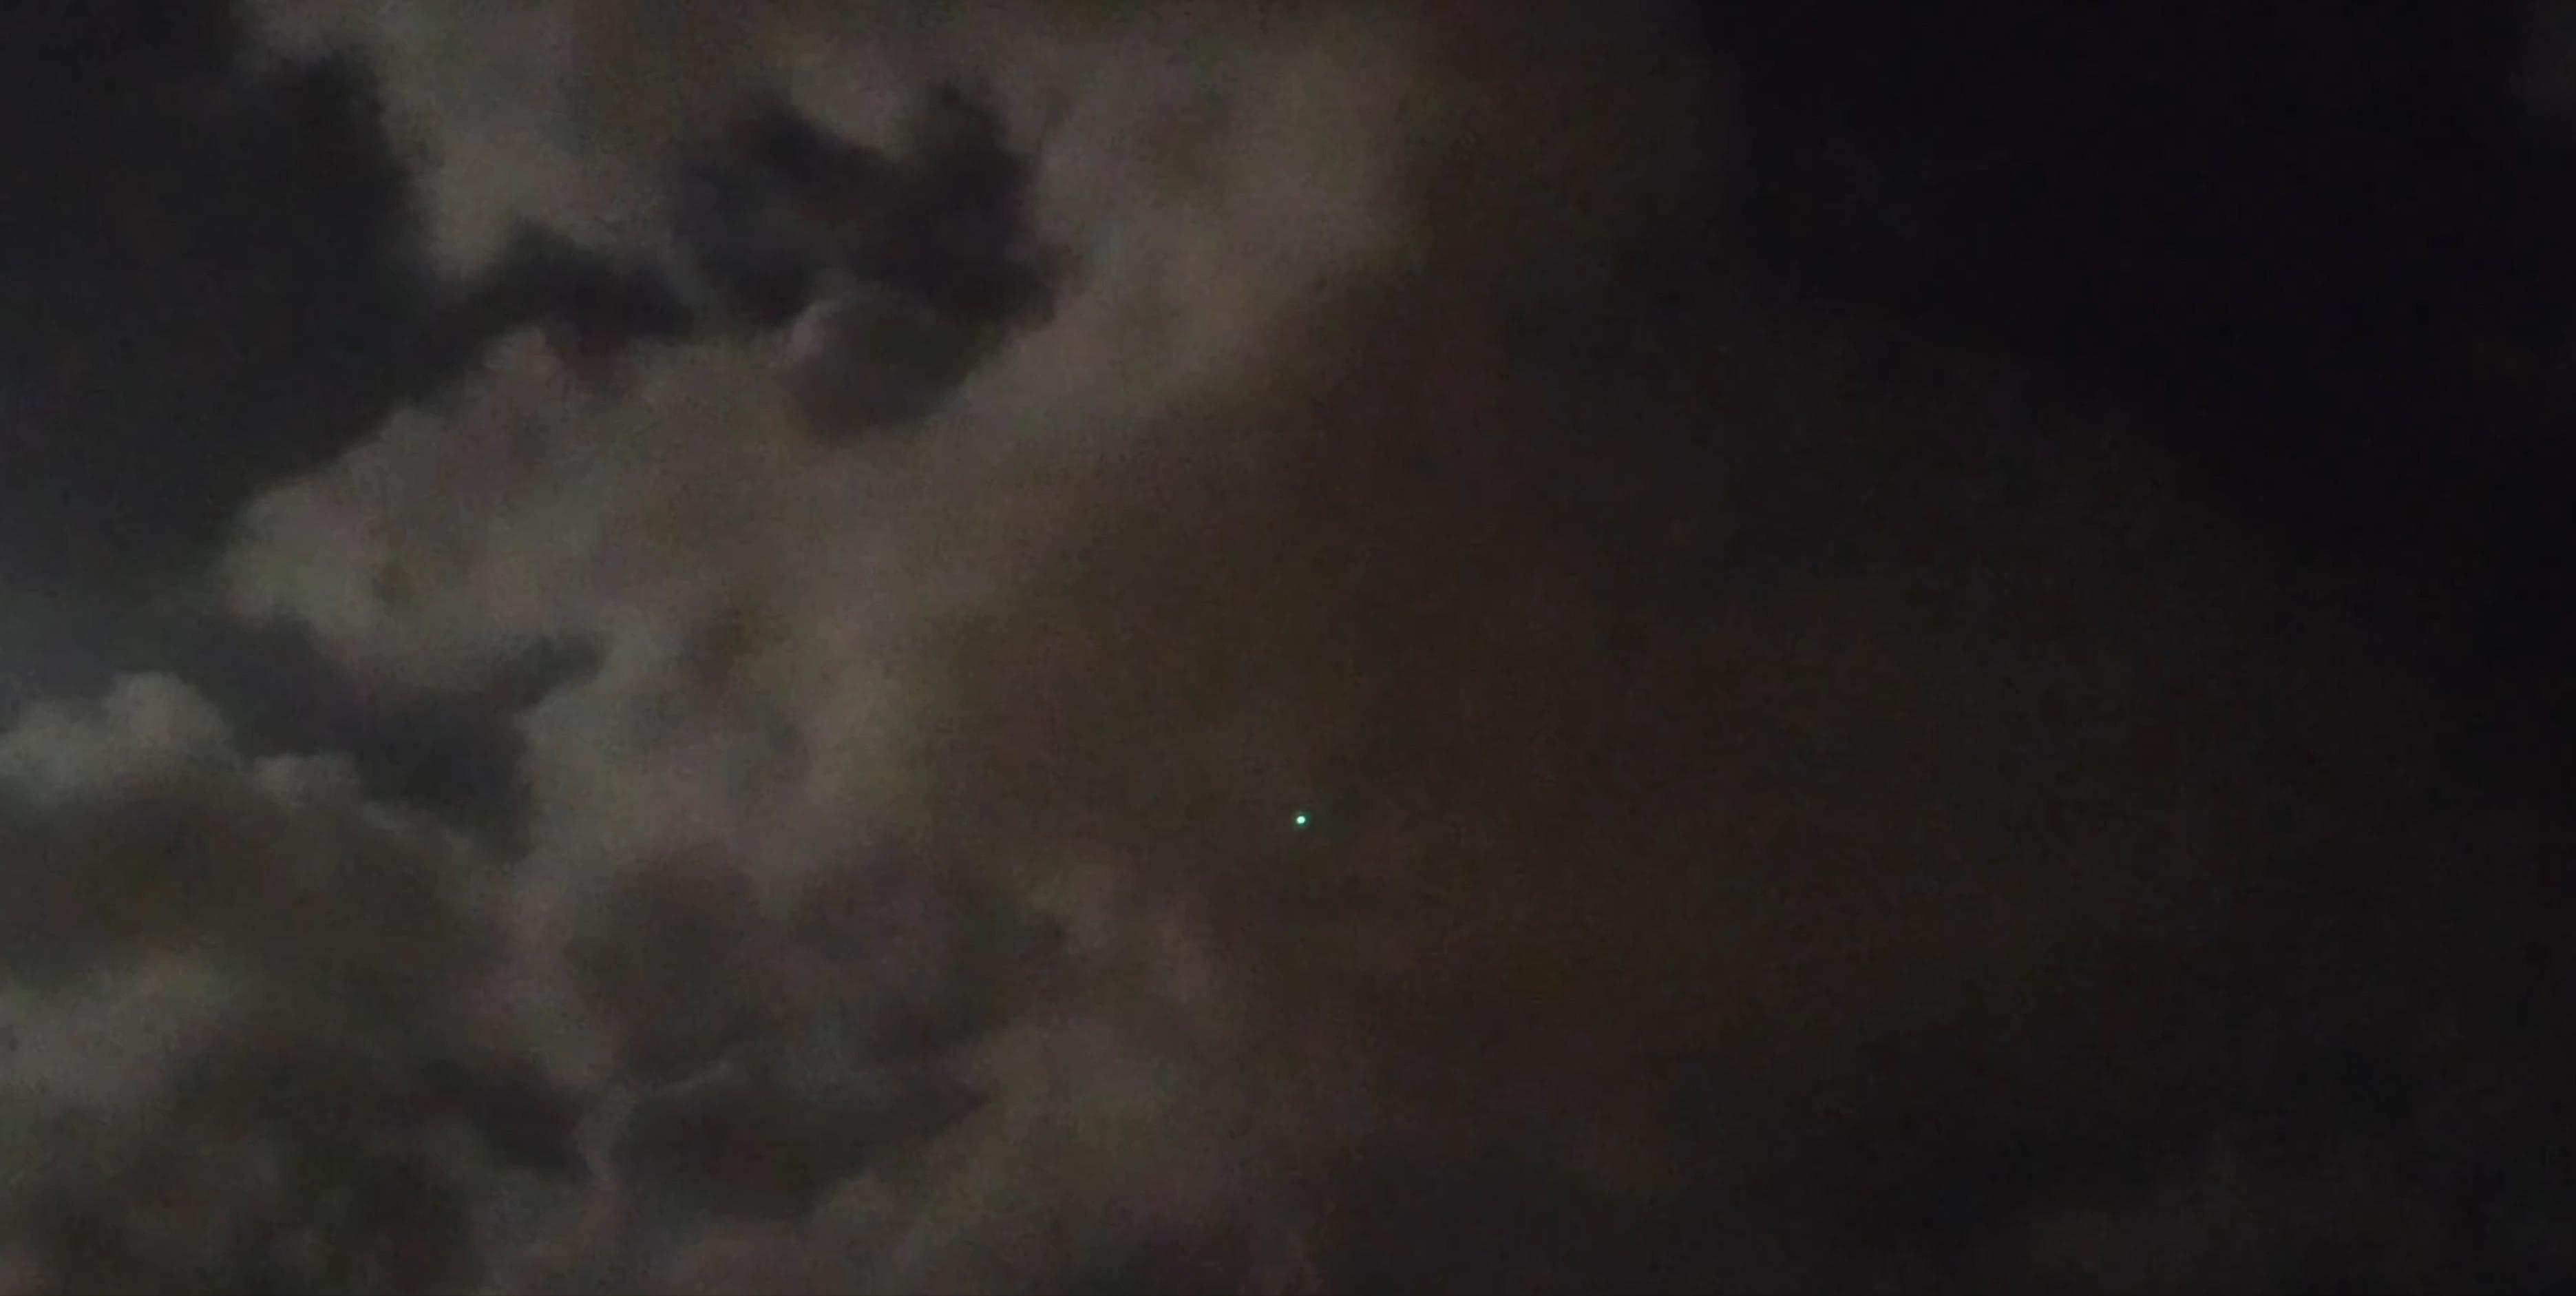Plane: (1276, 800, 1332, 841)
